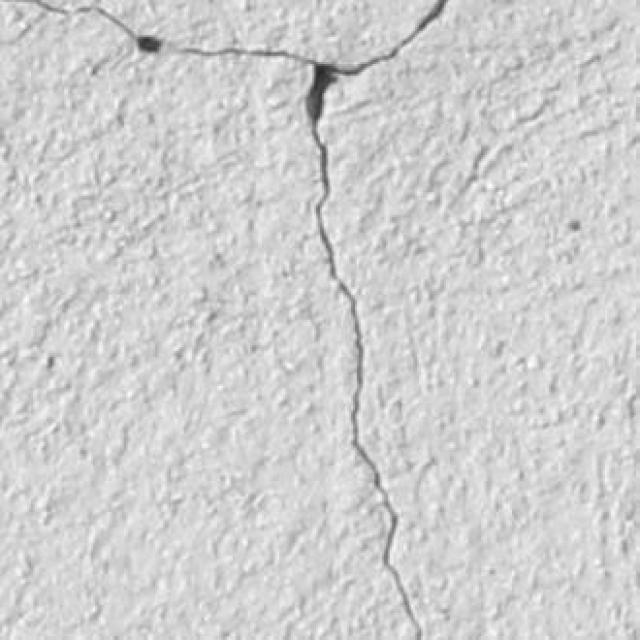crack: (0, 0, 449, 639), (307, 64, 422, 639)
